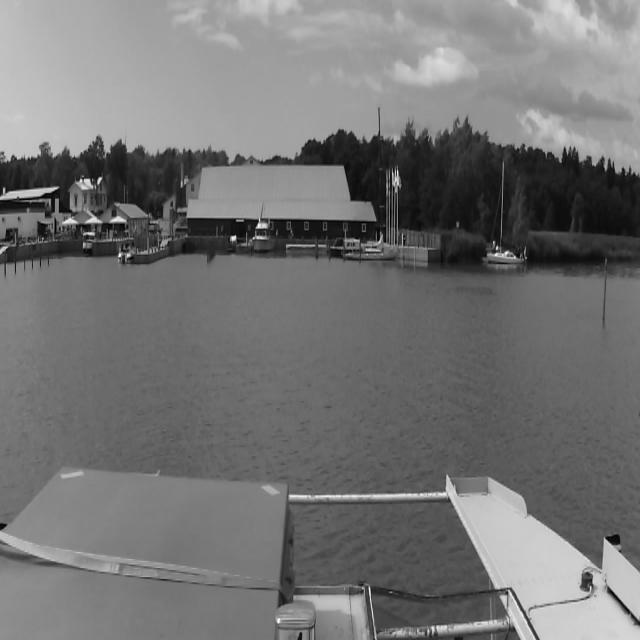buoy: (600, 255, 610, 336)
ship: (337, 97, 395, 262), (485, 152, 525, 276), (248, 205, 274, 262), (327, 233, 362, 259), (116, 236, 138, 266), (80, 225, 98, 259)
